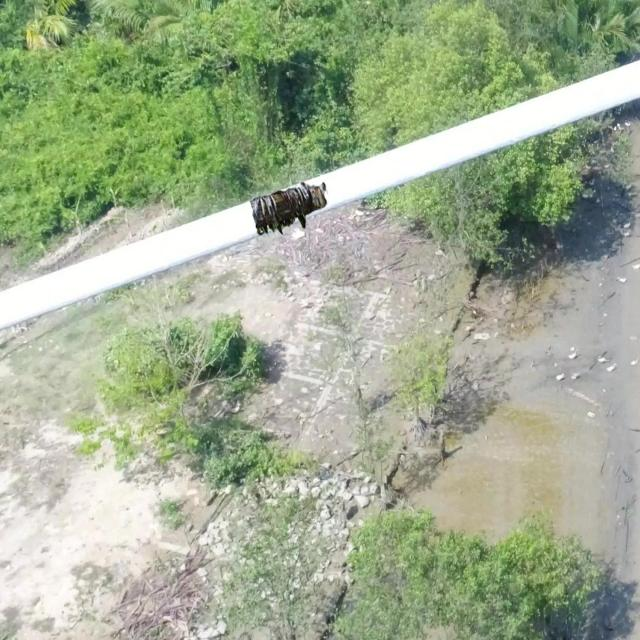corrosion: (250, 178, 330, 237)
